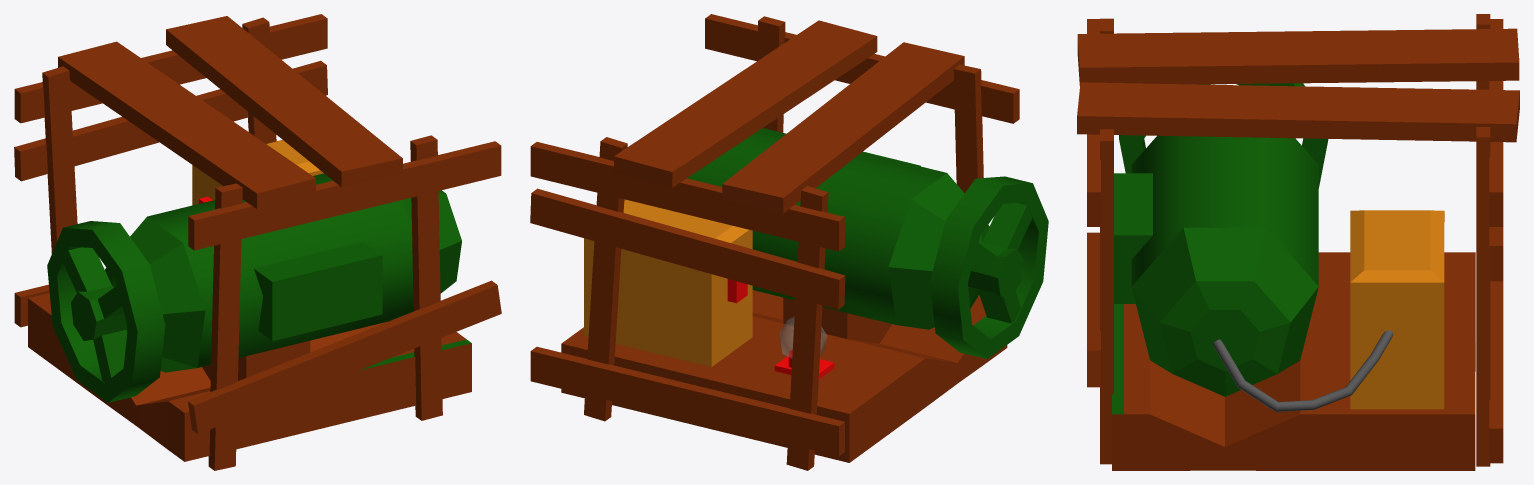
The model's file is generator_small01.FBX.
The picture shows the model from 3 angles, left to right: view 1: azimuth 30°, elevation 25°; view 2: azimuth 150°, elevation 25°; view 3: azimuth 270°, elevation 25°; orthographic projection. The views are drawn at different scales.
Visible parts, largest first — view 1: Box012, motor, fueltank; view 2: Box012, motor, fueltank, Sphere001; view 3: Box012, motor, fueltank, Line001.
Part boxes in pixels (x1=…): Box012: x1=14, y1=14, x2=501, y2=470; motor: x1=47, y1=173, x2=471, y2=402; fueltank: x1=192, y1=140, x2=323, y2=205; Box012: x1=530, y1=14, x2=1019, y2=470; motor: x1=687, y1=128, x2=1048, y2=359; fueltank: x1=584, y1=199, x2=752, y2=366; Sphere001: x1=779, y1=316, x2=827, y2=358; Box012: x1=1077, y1=14, x2=1519, y2=470; motor: x1=1112, y1=83, x2=1328, y2=414; fueltank: x1=1350, y1=210, x2=1444, y2=409; Line001: x1=1212, y1=330, x2=1393, y2=411.
Bounding box in the file's own units: 53.66 × 36.94 × 46.11.
